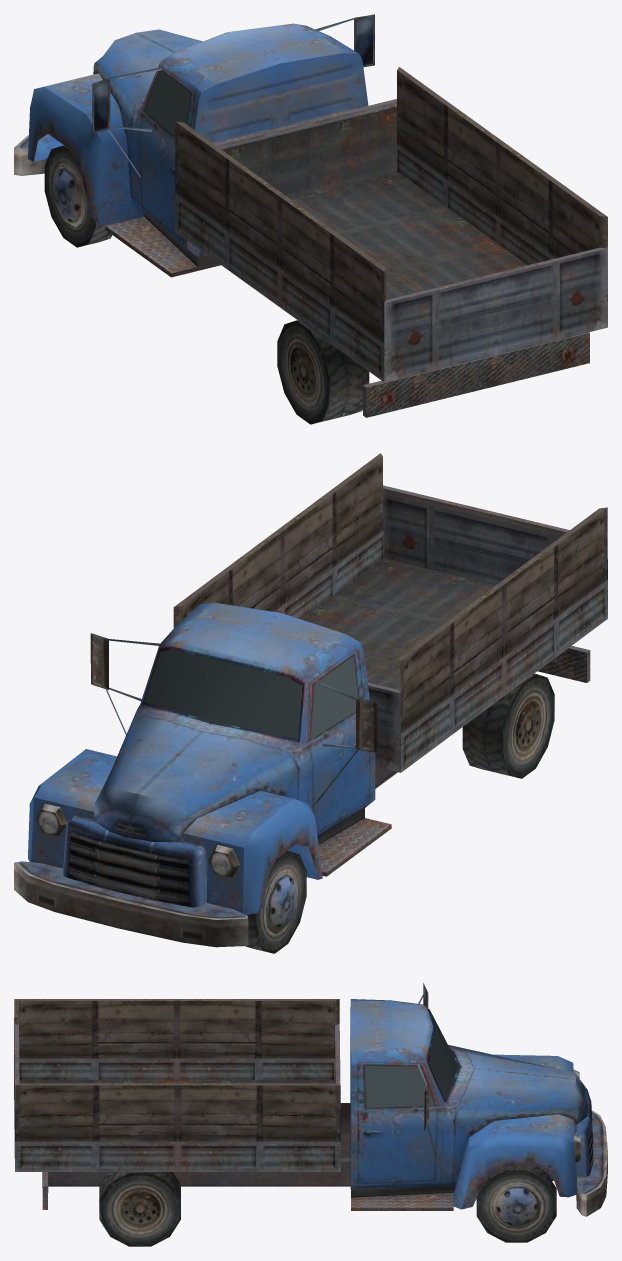
File: p54_13_stake_truck_blue.glb
3 renders of one model, top to bottom at view 1: azimuth 30°, elevation 25°; view 2: azimuth 150°, elevation 25°; view 3: azimuth 270°, elevation 25°, orthographic. The views are drawn at different scales.
Visible parts, largest first — view 1: Body, Glass; view 2: Body, Glass; view 3: Body, Glass.
Part boxes in pixels (<box>): Body: <box>14,14,607,424</box>; Glass: <box>145,71,190,136</box>; Body: <box>14,453,607,953</box>; Glass: <box>144,650,357,739</box>; Body: <box>14,983,607,1246</box>; Glass: <box>365,1011,458,1107</box>.
Bounding box in the file's own units: 3.63 × 2.82 × 8.37.
Materials: 2 (2 with a texture image).
